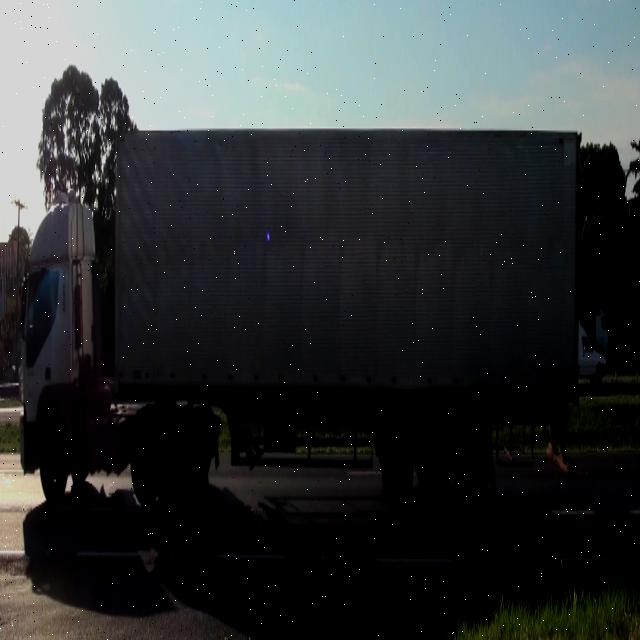-axle: (417, 418, 452, 498), (39, 418, 68, 506), (168, 426, 198, 506), (132, 426, 164, 501), (459, 418, 491, 492), (382, 416, 410, 498)
